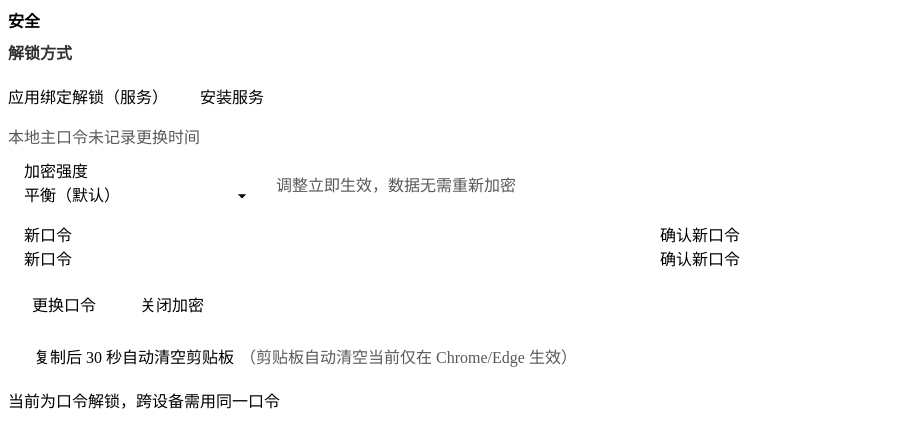
Test: SecurityCard ABE 区块（plan p6 §0.3 三态 + R7-I2 源缺失引导态） › bind 失败 {"ok":false,"reason":"failed","detail":"创建服务失败"} → 不调 addSource，保持未安装态并给分类内联文案（含「安装失败：创建服务失败」）
Click the button with class "abe-install": (232, 96) [176, 76, 288, 116]
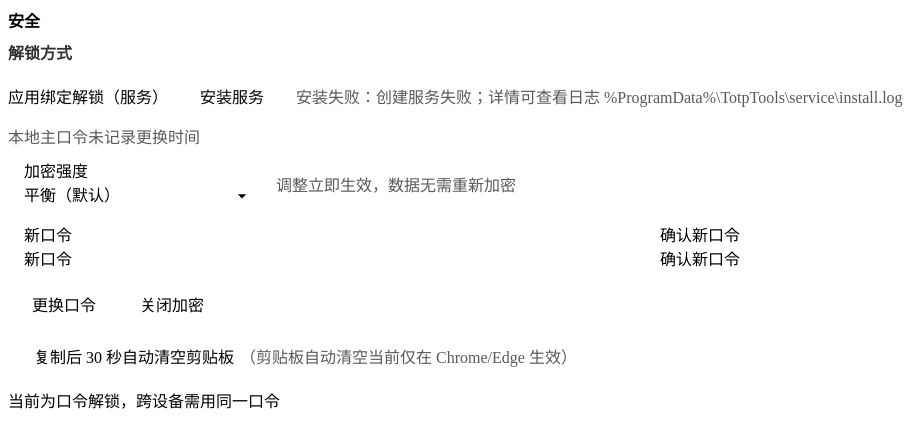
expect the text "安装失败：创建服务失败" is shown: met, box [296, 89, 903, 106]
expect the text "install.log" is shown: met, box [296, 89, 903, 106]
